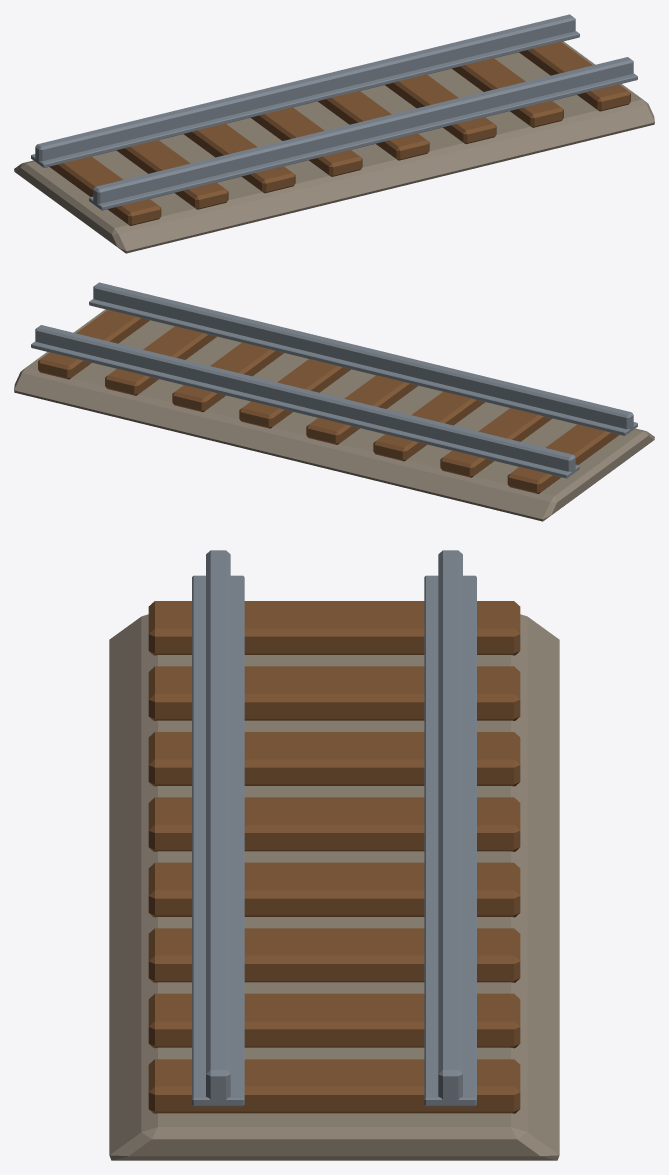
The model's file is Cart_Track.fbx.
The picture shows the model from 3 angles, top to bottom: view 1: azimuth 30°, elevation 25°; view 2: azimuth 150°, elevation 25°; view 3: azimuth 270°, elevation 25°; orthographic projection. The views are drawn at different scales.
Visible parts, largest first — view 1: Steel, Gravel, WoodDark; view 2: Steel, Gravel, WoodDark; view 3: WoodDark, Gravel, Steel.
Part boxes in pixels (bbox=[...]): Steel: bbox=[31, 14, 637, 210]; Gravel: bbox=[14, 41, 654, 253]; WoodDark: bbox=[49, 41, 630, 225]; Steel: bbox=[31, 282, 637, 478]; Gravel: bbox=[14, 309, 654, 521]; WoodDark: bbox=[38, 309, 619, 493]; WoodDark: bbox=[148, 601, 520, 1113]; Gravel: bbox=[109, 614, 559, 1160]; Steel: bbox=[192, 550, 476, 1106].
Size of the model in its own units: 8 by 0.66 by 2.91.
